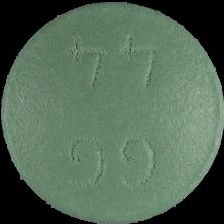0781-1487: (0, 0, 224, 224)
